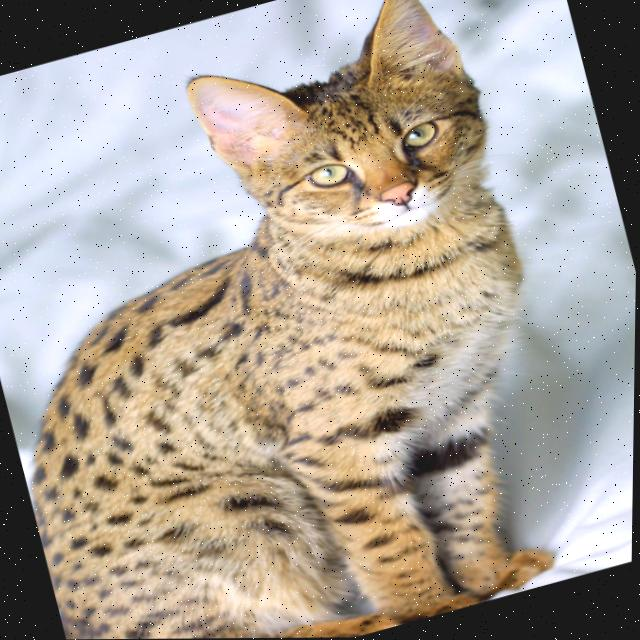Egyptian Mau: (0, 0, 615, 640)
